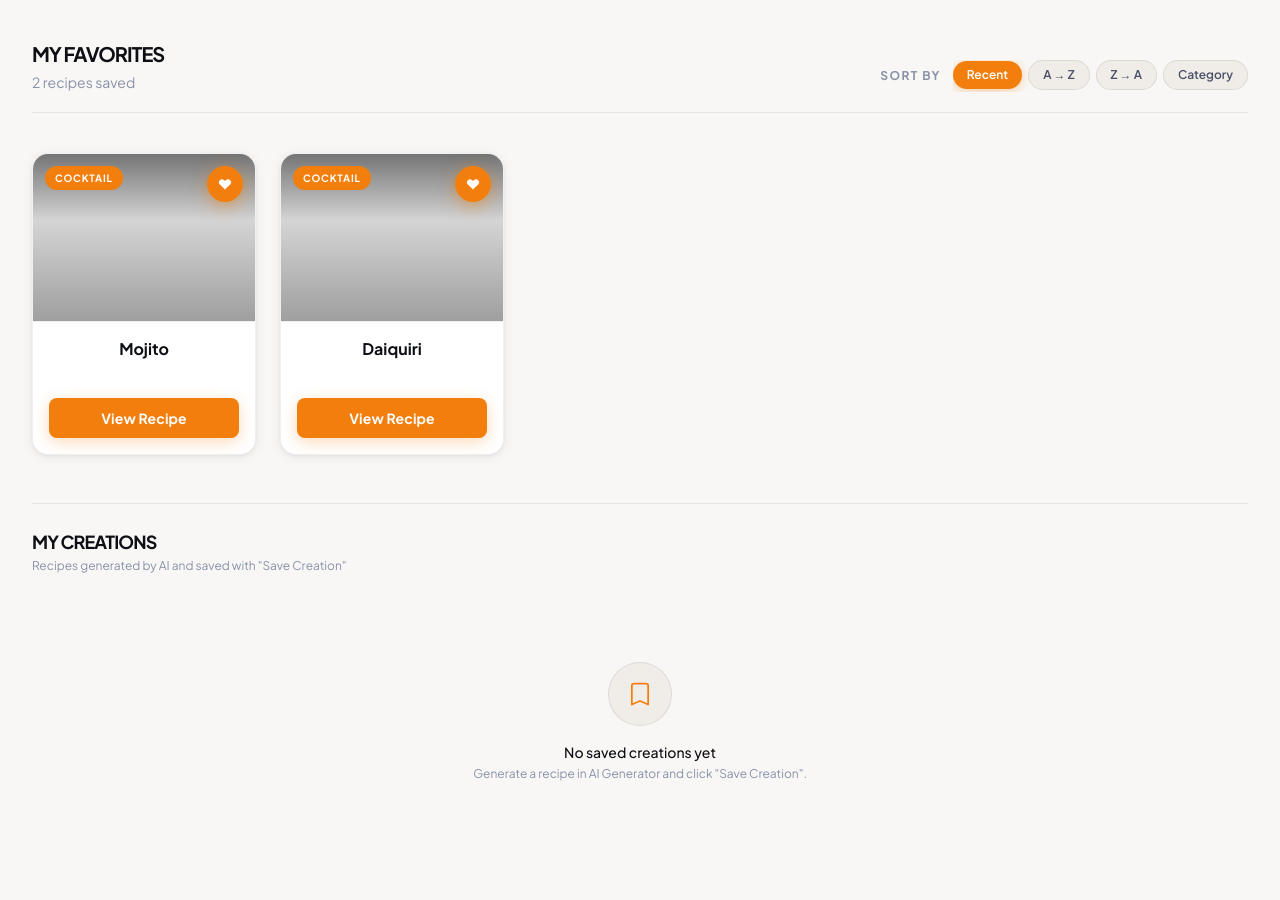
Test: FavoritesPage — Integration › remove from favorites › removes only the clicked card when there are multiple favorites
Click the button named "remove mojito from favorites".
click(225, 184)  # box [207,166,243,202]
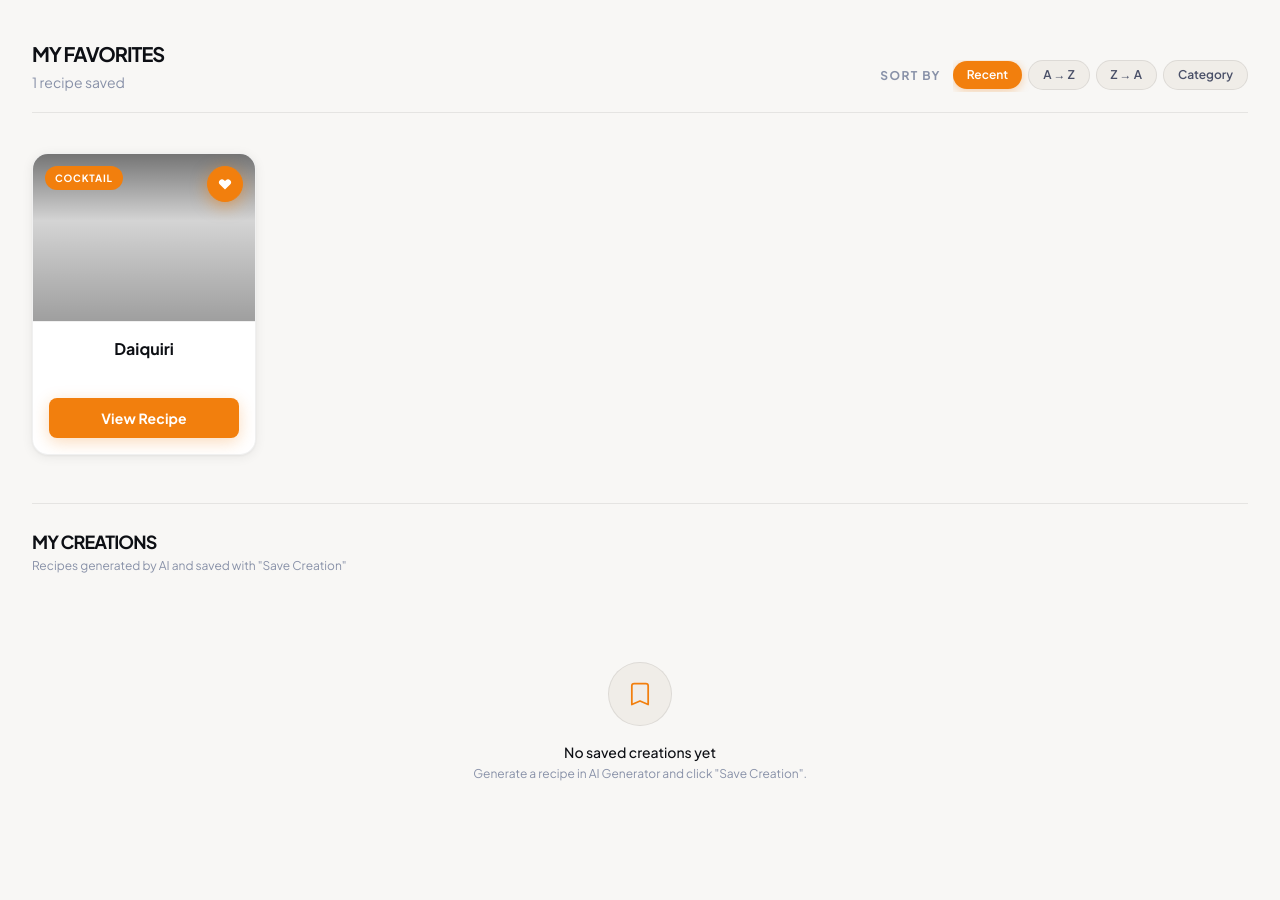
Expected: the heading "Daiquiri" is shown, [114,338,174,358]
Result: the heading "Mojito" is gone
